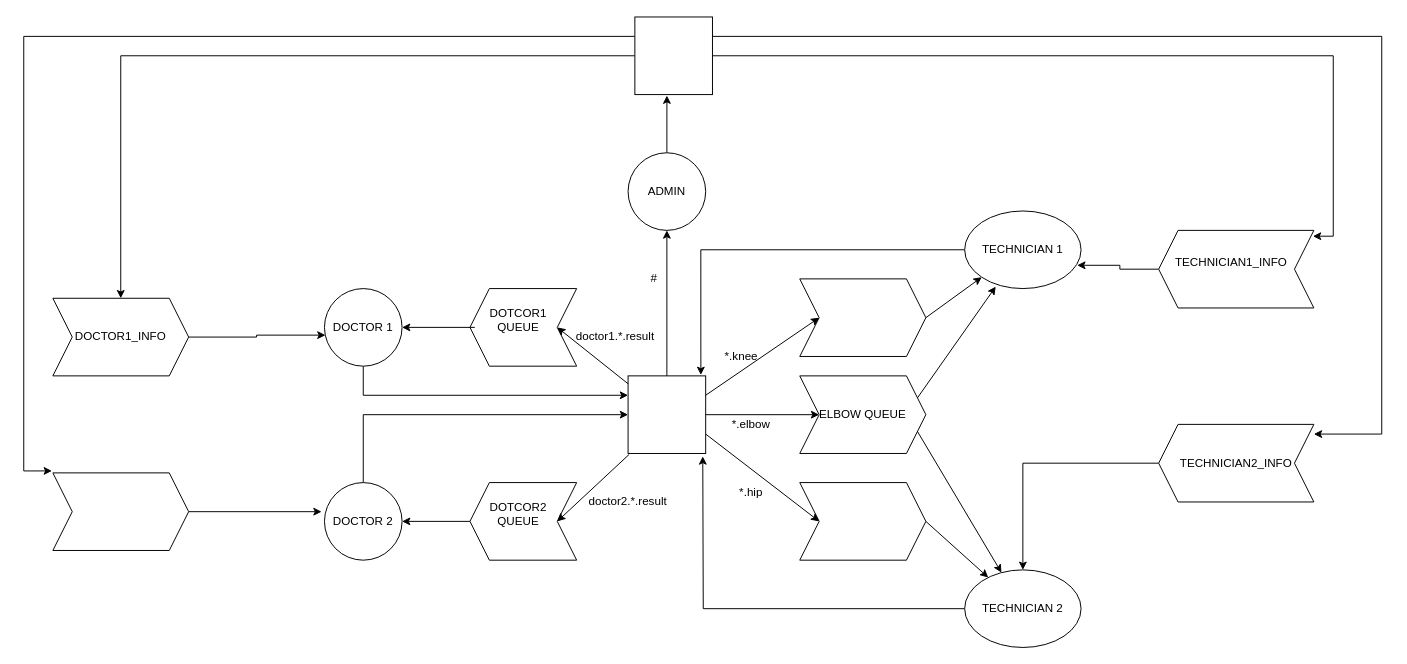
The diagram is 1407 pixels wide and 664 high, and some of its shapes have lost their labels. Each missing label, with the centre of its shape:
"DOCTOR2_INFO" goes at [120,511].
"FANOUT EXCHANGE" goes at [673,55].
"HIP QUEUE" goes at [862,521].
"KNEE QUEUE" goes at [862,317].
"TOPIC EXCHANGE" goes at [666,414].
